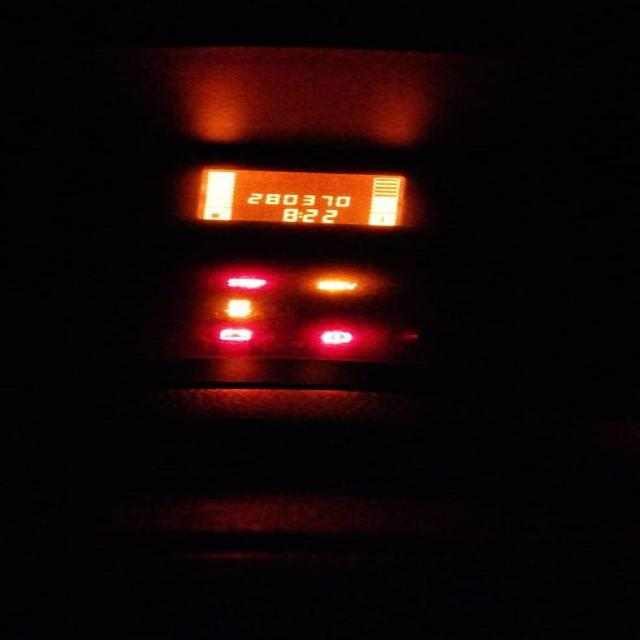odometer: (186, 163, 419, 228)
